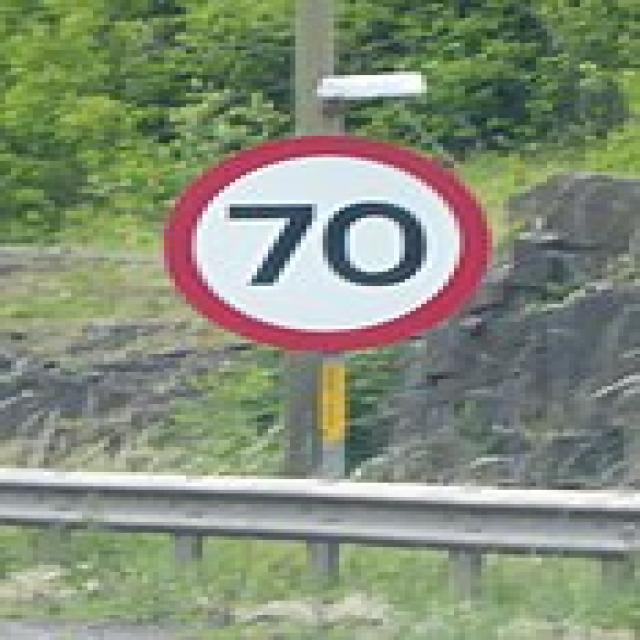Speed Limit -70-: (223, 192, 442, 300)
